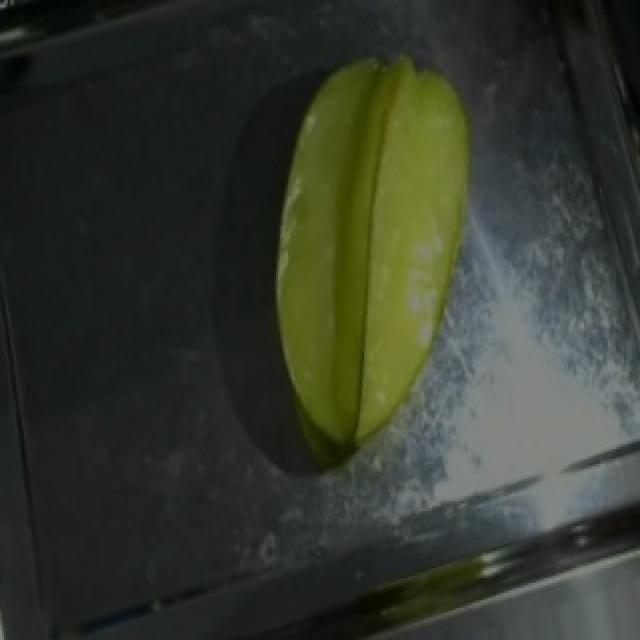fruit: (262, 27, 534, 412)
